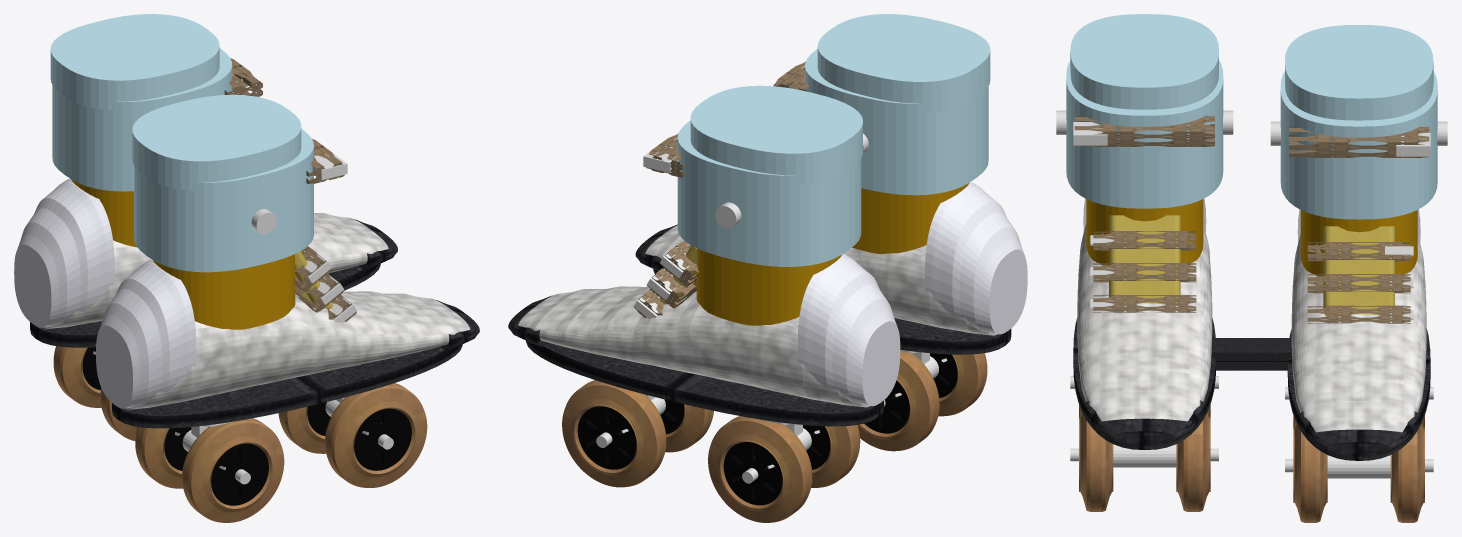
File: Sports_Roller_scates__0059.glb
3 views of the same model, side by side, from view 1: azimuth 30°, elevation 25°; view 2: azimuth 150°, elevation 25°; view 3: azimuth 270°, elevation 25° (orthographic). The views are drawn at different scales.
Parts seen in each view (by area): view 1: right_boot::shell, right_cuff::collar, left_cuff::upper_collar, right_cuff::upper_collar, left_boot::heel_panel, right_boot::heel_panel, right_boot::sole, left_cuff::collar, right_boot::shaft, right_wheel_2::tire, right_wheel_0::tire, left_boot::shell (+17 smaller); view 2: left_boot::shell, left_cuff::collar, right_cuff::upper_collar, left_cuff::upper_collar, right_cuff::collar, left_boot::heel_panel, right_boot::heel_panel, left_boot::sole, left_boot::shaft, left_wheel_2::tire, left_wheel_0::tire, right_boot::shell (+16 smaller); view 3: left_boot::shell, right_boot::shell, left_cuff::collar, right_cuff::collar, left_cuff::upper_collar, right_cuff::upper_collar, left_boot::tongue, right_boot::tongue, left_boot::shaft, right_boot::shaft, left_wheel_1::tire, right_cuff::cuff_strap (+19 smaller).
Boxes of the visible parts, x1,y1,x2,y2 form: right_boot::shell: [125, 291, 470, 409]; right_cuff::collar: [134, 129, 313, 272]; left_cuff::upper_collar: [50, 14, 219, 110]; right_cuff::upper_collar: [132, 94, 301, 190]; left_boot::heel_panel: [14, 178, 114, 327]; right_boot::heel_panel: [96, 259, 196, 408]; right_boot::sole: [112, 344, 462, 428]; left_cuff::collar: [52, 48, 232, 191]; right_boot::shaft: [153, 254, 295, 329]; right_wheel_2::tire: [182, 418, 284, 522]; right_wheel_0::tire: [325, 383, 427, 487]; left_boot::shell: [43, 213, 388, 328]; left_boot::shell: [518, 286, 870, 407]; left_cuff::collar: [677, 120, 861, 266]; right_cuff::upper_collar: [817, 14, 990, 112]; left_cuff::upper_collar: [690, 85, 862, 183]; right_cuff::collar: [805, 49, 988, 195]; left_boot::heel_panel: [797, 254, 900, 406]; right_boot::heel_panel: [925, 182, 1027, 334]; left_boot::sole: [526, 340, 883, 426]; left_boot::shaft: [696, 248, 842, 325]; left_wheel_2::tire: [708, 416, 812, 522]; left_wheel_0::tire: [562, 380, 666, 487]; right_boot::shell: [645, 225, 997, 335]; left_boot::shell: [1291, 234, 1426, 432]; right_boot::shell: [1077, 223, 1212, 421]; left_cuff::collar: [1280, 71, 1437, 219]; right_cuff::collar: [1066, 60, 1223, 208]; left_cuff::upper_collar: [1285, 25, 1433, 120]; right_cuff::upper_collar: [1070, 14, 1218, 109]; left_boot::tongue: [1323, 226, 1394, 316]; right_boot::tongue: [1109, 215, 1180, 306]; left_boot::shaft: [1300, 210, 1417, 276]; right_boot::shaft: [1086, 199, 1203, 265]; left_wheel_1::tire: [1293, 424, 1327, 522]; right_cuff::cuff_strap: [1074, 115, 1214, 146].
Size of the model in its own units: 0.312 by 0.2988 by 0.274.
13 materials, 8 textured.
